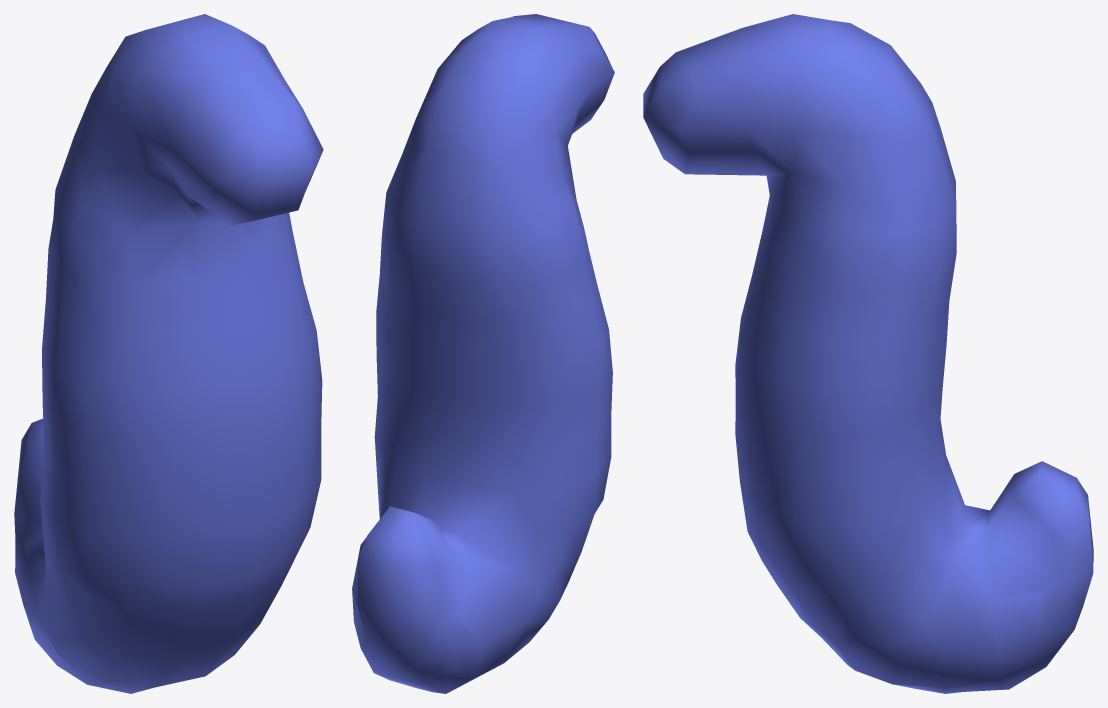
Rendered from unicornTail.fbx.
3 views of the same model, side by side, from view 1: azimuth 30°, elevation 25°; view 2: azimuth 150°, elevation 25°; view 3: azimuth 270°, elevation 25° (orthographic). The views are drawn at different scales.
Parts seen in each view (by area): view 1: Unicorn Tail; view 2: Unicorn Tail; view 3: Unicorn Tail.
Boxes of the visible parts, x1,y1,x2,y2 form: Unicorn Tail: [14, 14, 323, 693]; Unicorn Tail: [352, 14, 614, 693]; Unicorn Tail: [643, 14, 1093, 693].
Size of the model in its own units: 26.95 by 71.87 by 44.5.
